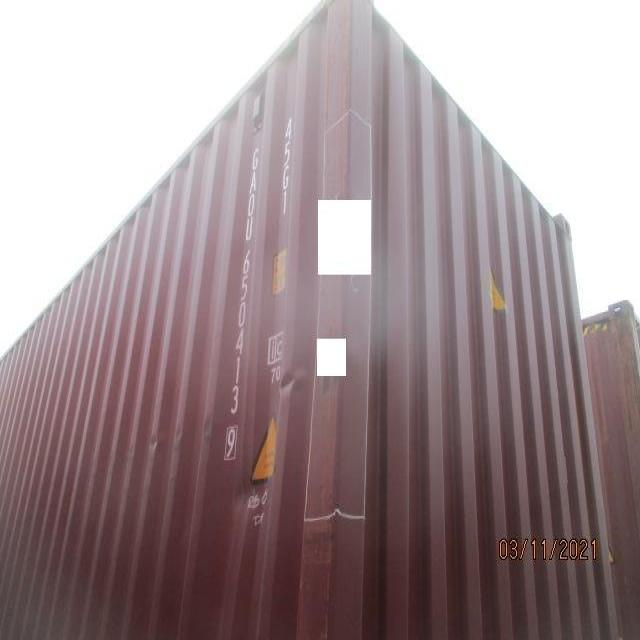dent: (198, 357, 311, 533), (130, 413, 213, 456)
